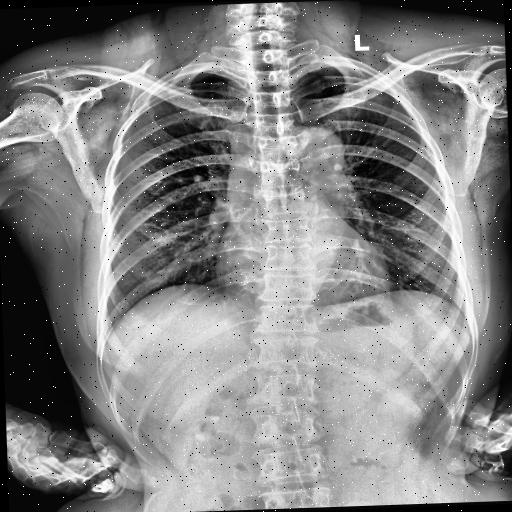0- Aortic enlargement: (280, 124, 347, 196), (280, 123, 346, 190), (288, 122, 348, 186)
